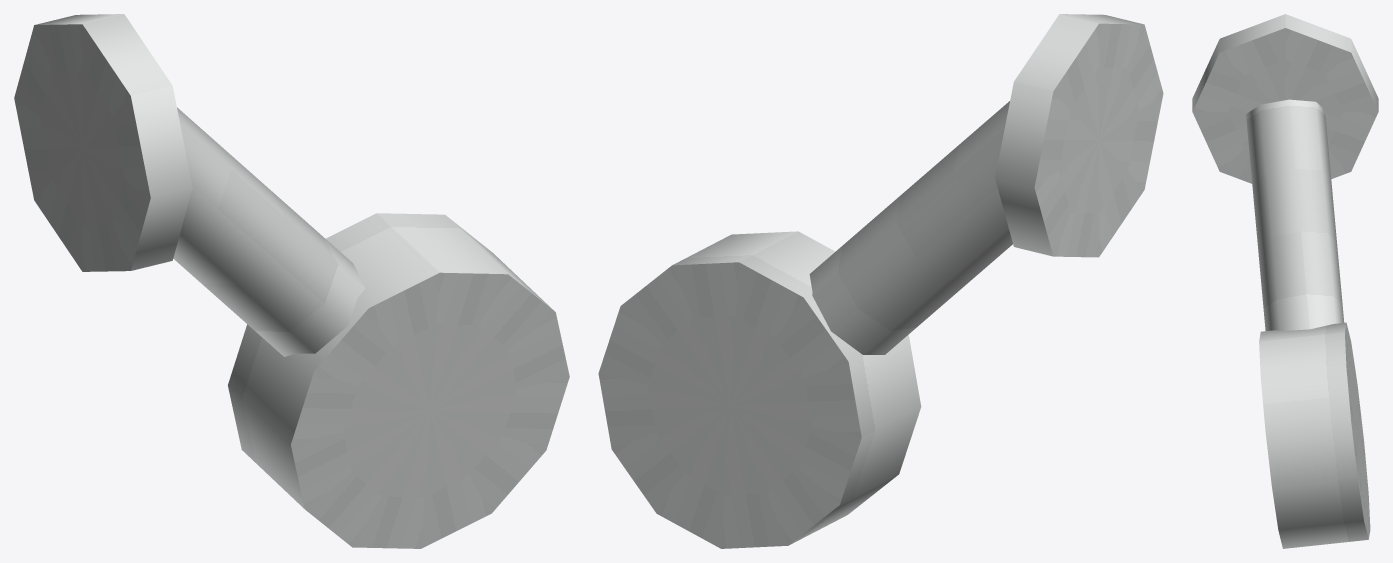
The model's file is trusssignalarm_stub_60.obj.
3 views of the same model, side by side, from view 1: azimuth 30°, elevation 25°; view 2: azimuth 150°, elevation 25°; view 3: azimuth 270°, elevation 25° (orthographic). The views are drawn at different scales.
Visible parts, largest first — view 1: trusssignalarm_stub_60; view 2: trusssignalarm_stub_60; view 3: trusssignalarm_stub_60.
Boxes of the visible parts, x1,y1,x2,y2 form: trusssignalarm_stub_60: (14,14,569,548); trusssignalarm_stub_60: (598,14,1163,548); trusssignalarm_stub_60: (1192,14,1378,548).
Size of the model in its own units: 0.7056 by 0.8571 by 0.35.
